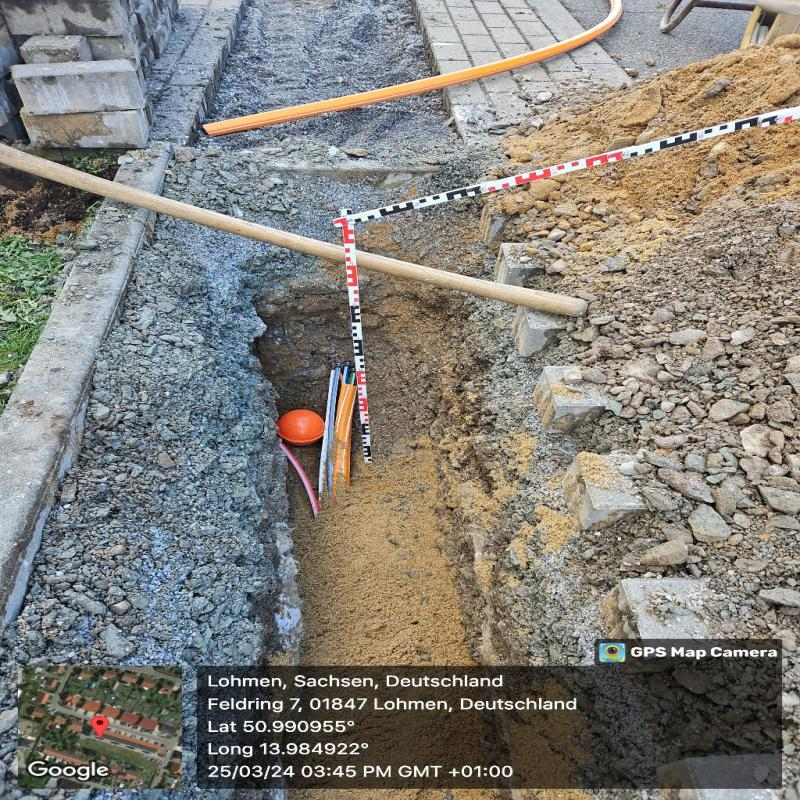Kugelmarker: (274, 409, 323, 445)
Orang-Speednetrohrchen: (320, 359, 358, 492)
